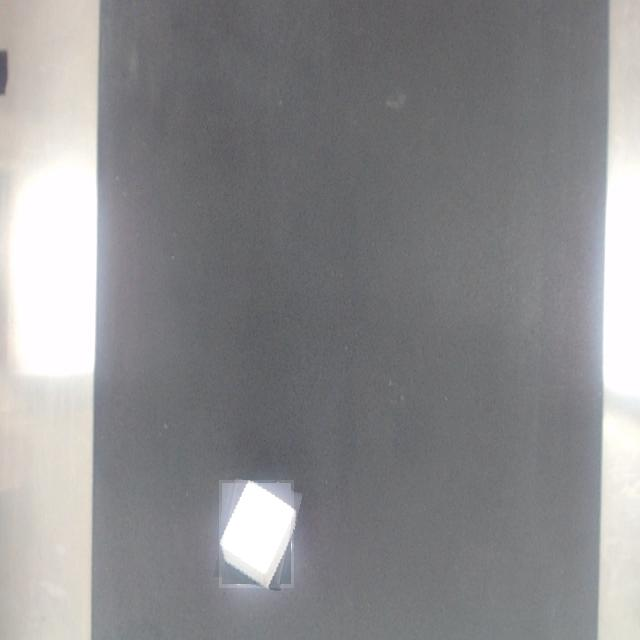Blanco: (219, 481, 294, 588)
